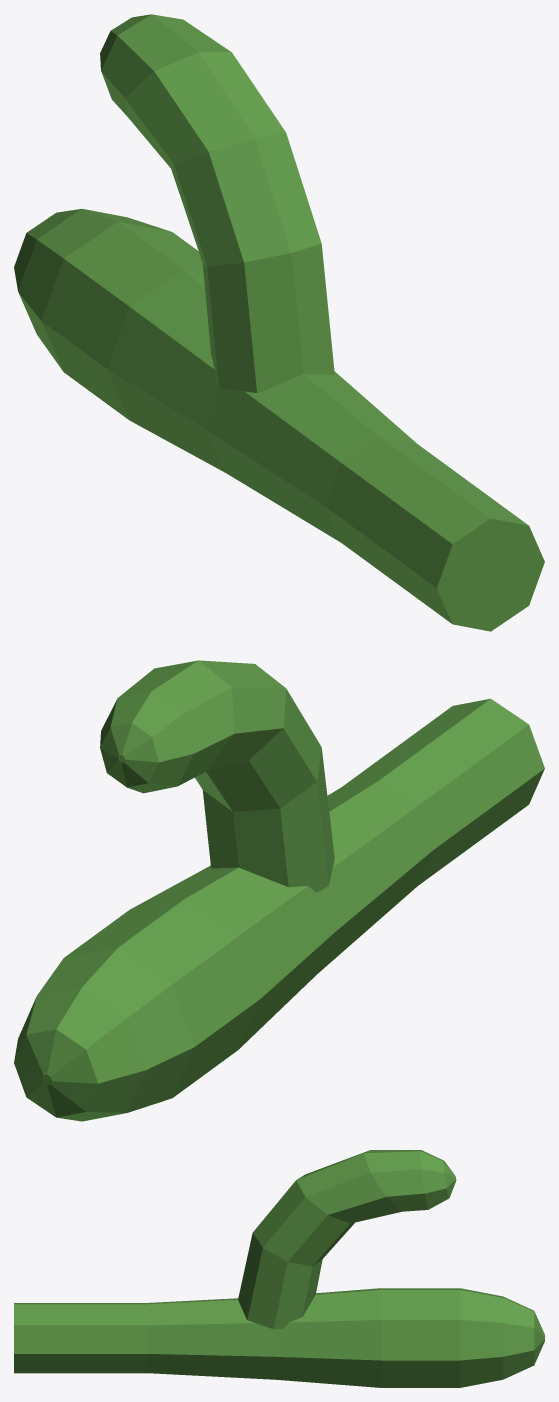
3 views of the same model, one above another, from view 1: azimuth 30°, elevation 25°; view 2: azimuth 150°, elevation 25°; view 3: azimuth 270°, elevation 25° (orthographic). The views are drawn at different scales.
Parts seen in each view (by area): view 1: Cylinder; view 2: Cylinder; view 3: Cylinder.
Boxes of the visible parts, left/top/right/bottom form: Cylinder: left=14, top=14, right=544, bottom=631; Cylinder: left=14, top=660, right=544, bottom=1121; Cylinder: left=14, top=1150, right=544, bottom=1387.
Bounding box in the file's own units: 145 × 355 × 726.
